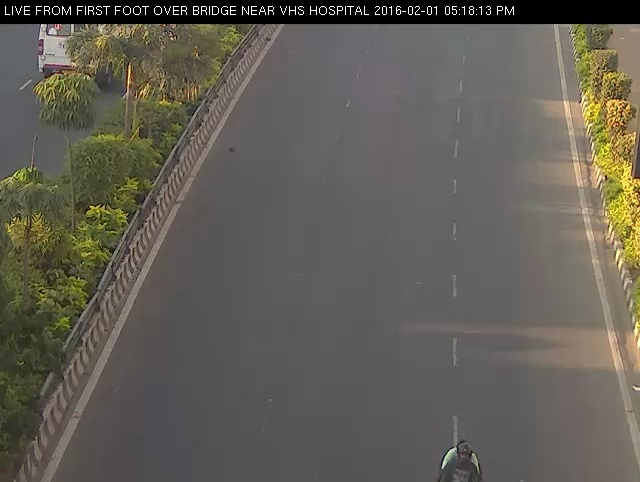Person: (428, 435, 495, 482)
